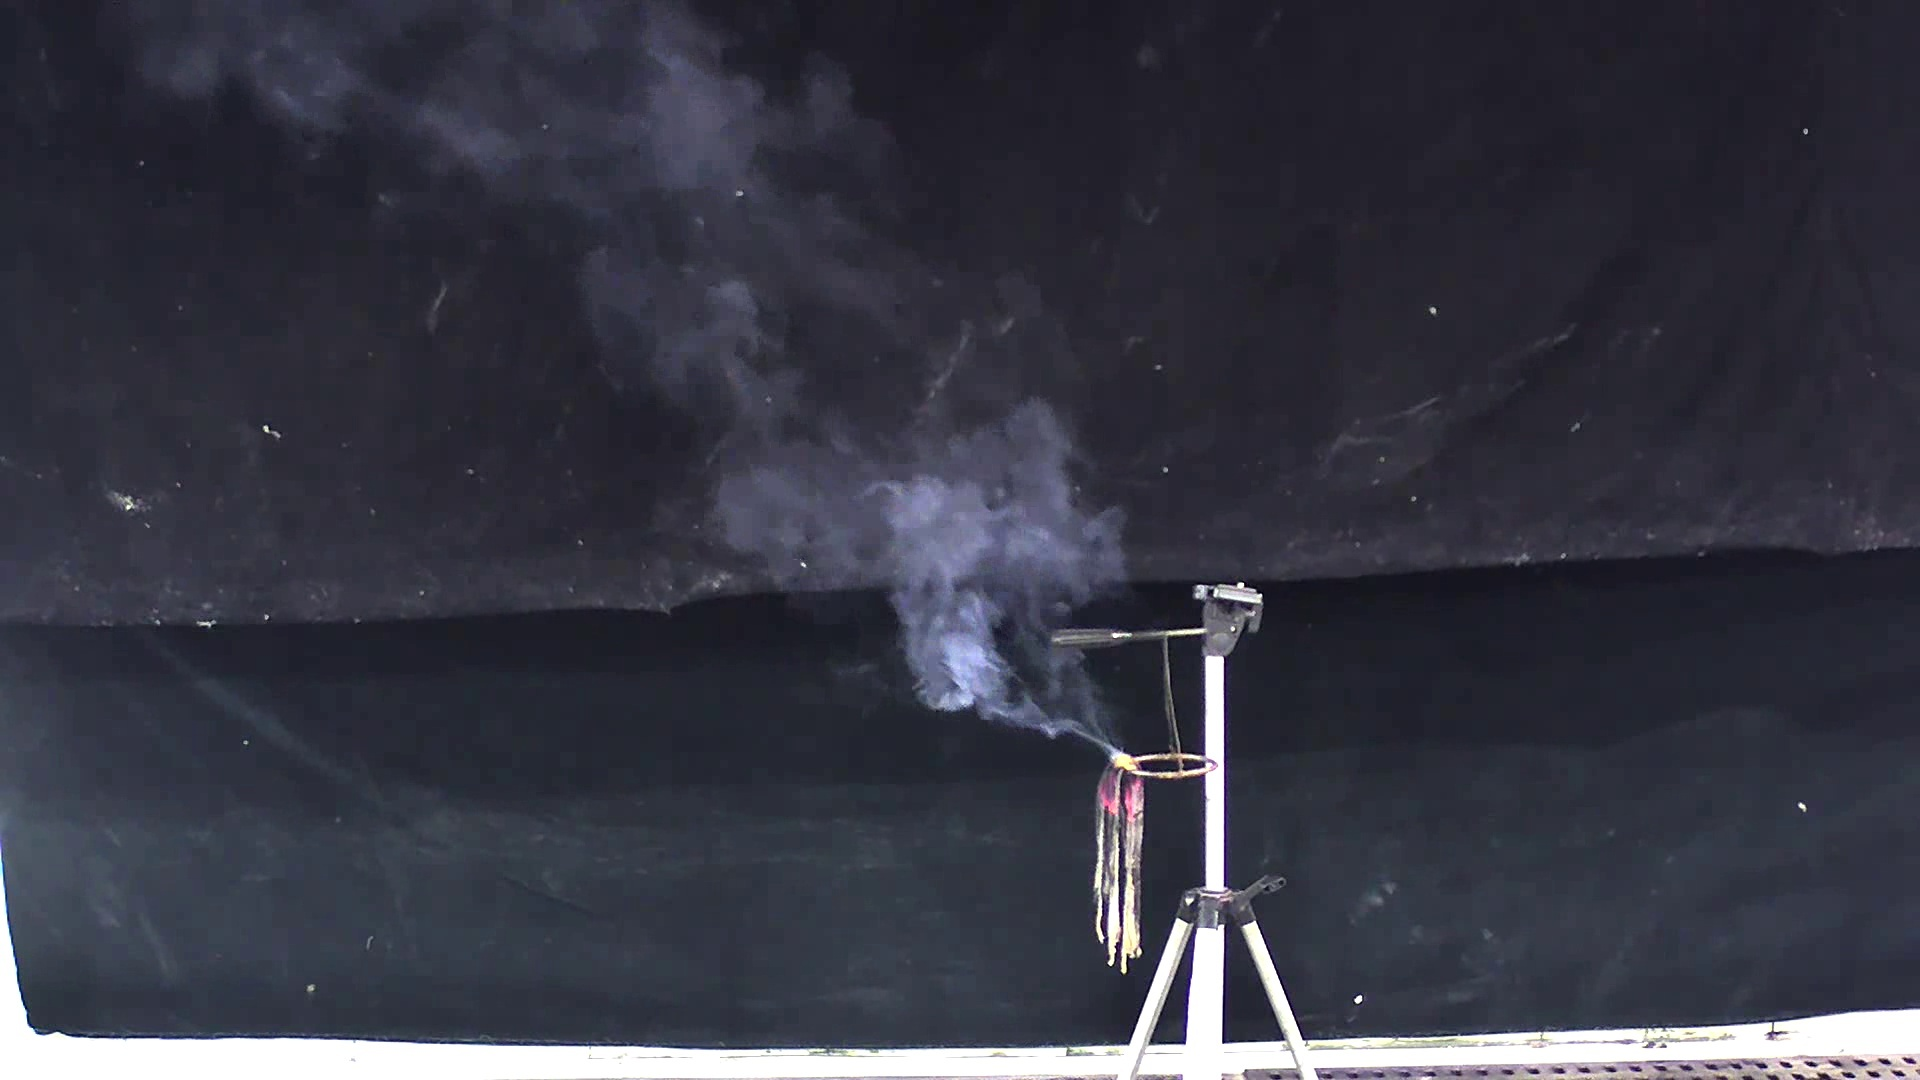smoke: (133, 22, 1138, 752)
